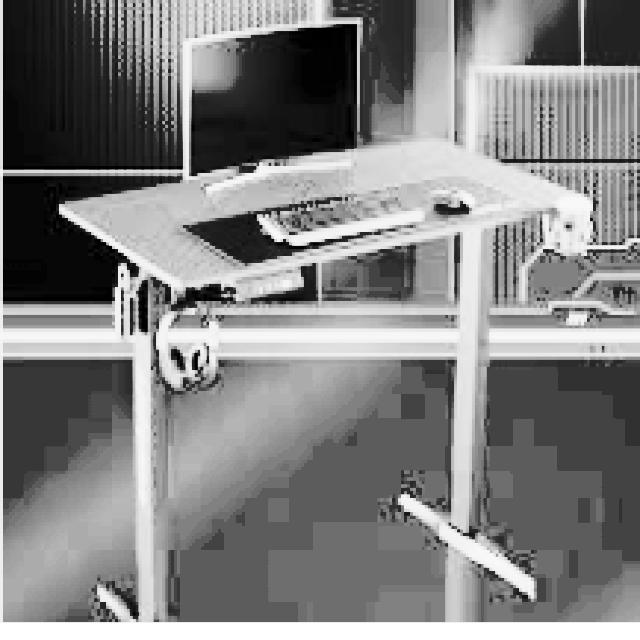table: (56, 132, 590, 620)
